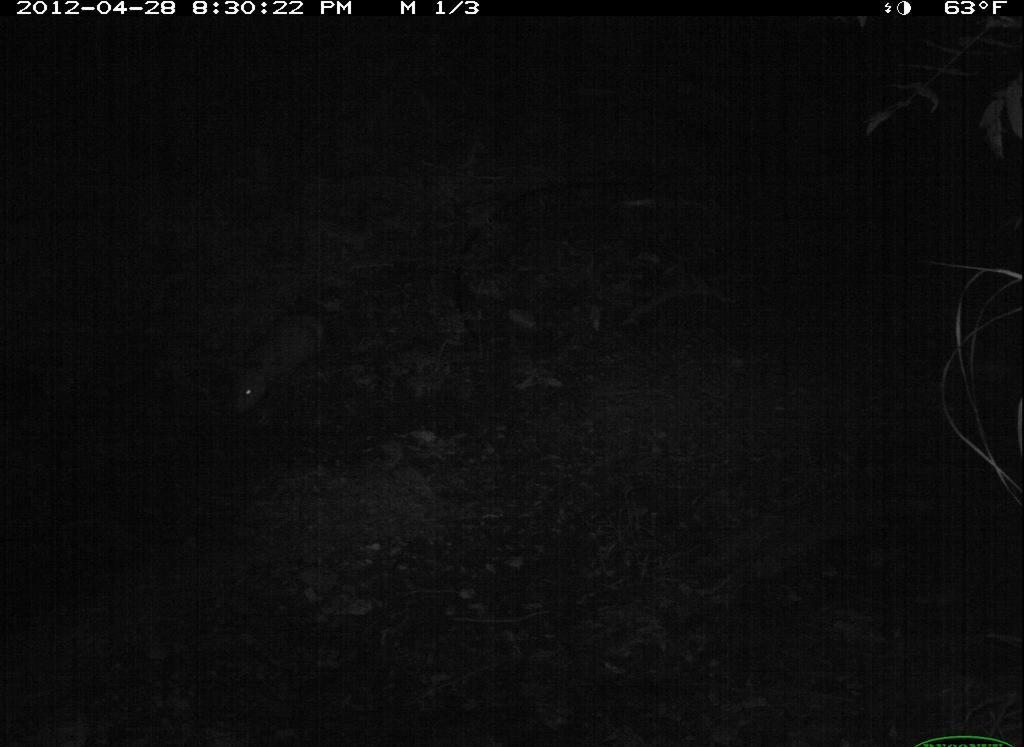opossum: (216, 303, 378, 420)
